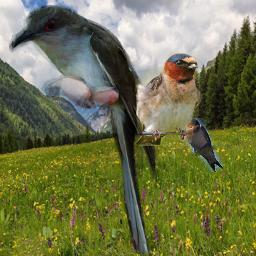Cuckoo: (9, 5, 161, 254)
Swallow: (134, 53, 202, 146), (181, 118, 223, 172)
